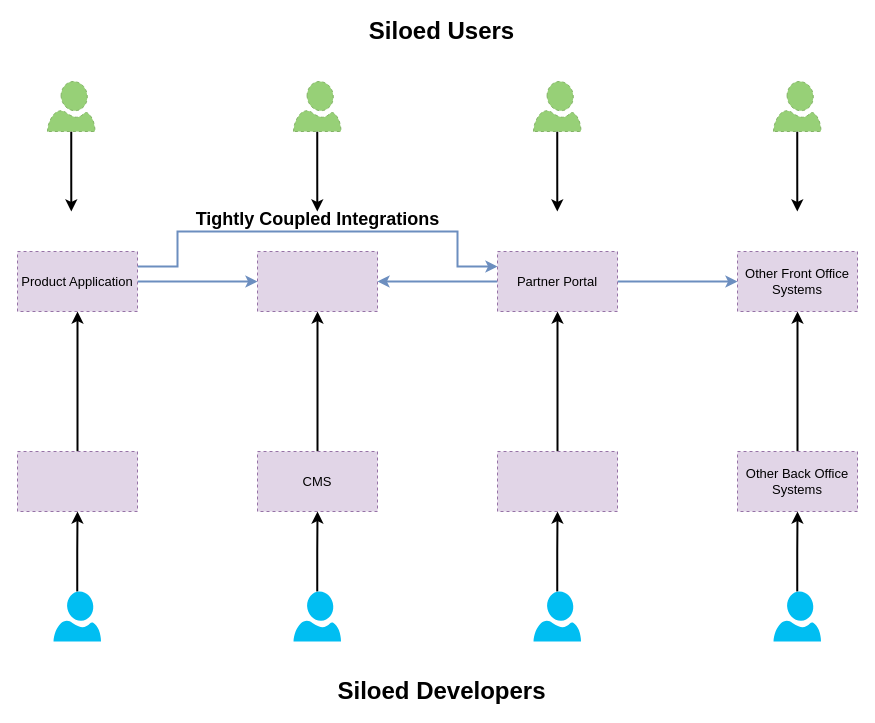
The diagram is 875 pixels wide and 723 high, and some of its shapes have lost their labels. Here are the shapes that lost their labels. From the top down, the box of each, then its label:
(256, 250, 378, 312): Website
(16, 450, 138, 512): PIM
(496, 450, 618, 512): CRM
